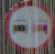No overtake: (3, 5, 53, 53)
